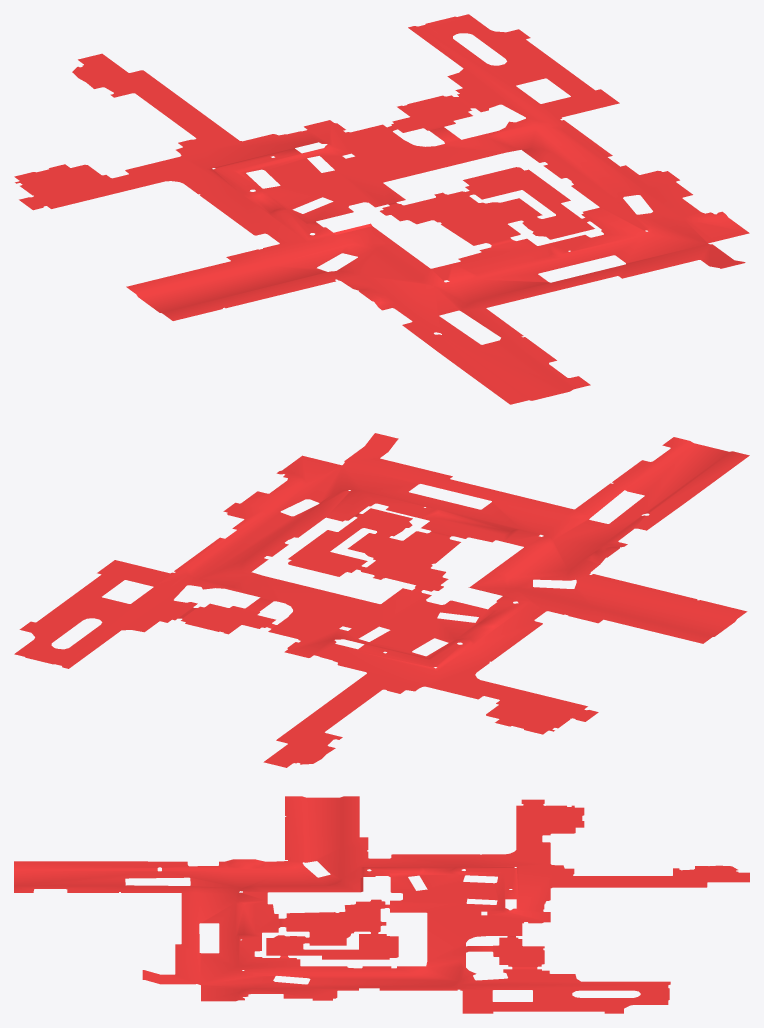
File: DowntownNavMesh.fbx
3 renders of one model, top to bottom at view 1: azimuth 30°, elevation 25°; view 2: azimuth 150°, elevation 25°; view 3: azimuth 270°, elevation 25°, orthographic. The views are drawn at different scales.
Visible parts, largest first — view 1: Downtown; view 2: Downtown; view 3: Downtown.
Boxes of the visible parts, box(x1,y1,x2,y2) form: Downtown: box(14, 14, 749, 404); Downtown: box(14, 433, 749, 767); Downtown: box(14, 796, 749, 1013).
Size of the model in its own units: 83.1 by 1.02 by 119.
